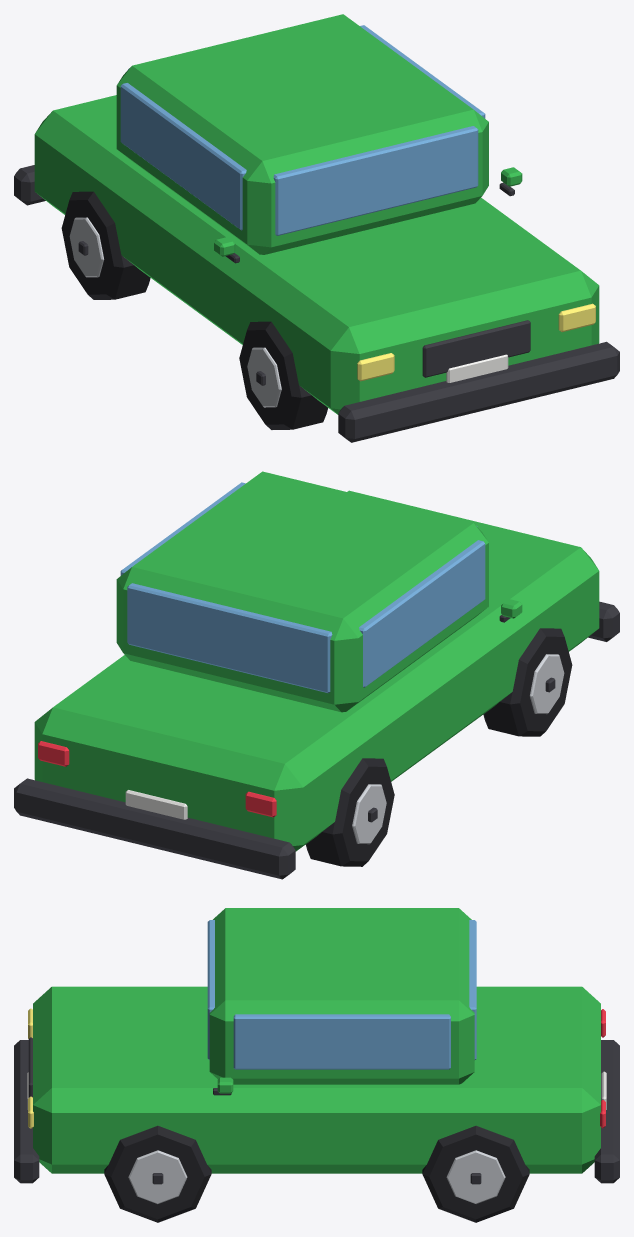
The model's file is GreenCar.fbx.
3 renders of one model, top to bottom at view 1: azimuth 30°, elevation 25°; view 2: azimuth 150°, elevation 25°; view 3: azimuth 270°, elevation 25°, orthographic. The views are drawn at different scales.
Visible parts, largest first — view 1: GreenCar, GreenCar_WheelBR, GreenCar_WheelFR; view 2: GreenCar, GreenCar_WheelBR, GreenCar_WheelFR; view 3: GreenCar, GreenCar_WheelBL, GreenCar_WheelFL.
Boxes of the visible parts, x1,y1,x2,y2 form: GreenCar: [14, 14, 619, 442]; GreenCar_WheelBR: [61, 191, 150, 299]; GreenCar_WheelFR: [239, 321, 327, 429]; GreenCar: [14, 471, 619, 879]; GreenCar_WheelBR: [305, 758, 394, 866]; GreenCar_WheelFR: [483, 628, 572, 736]; GreenCar: [14, 908, 619, 1183]; GreenCar_WheelBL: [422, 1125, 529, 1222]; GreenCar_WheelFL: [104, 1125, 211, 1222].
Bounding box in the file's own units: 4.95 × 3.67 × 9.6.
1 material, 1 textured.
